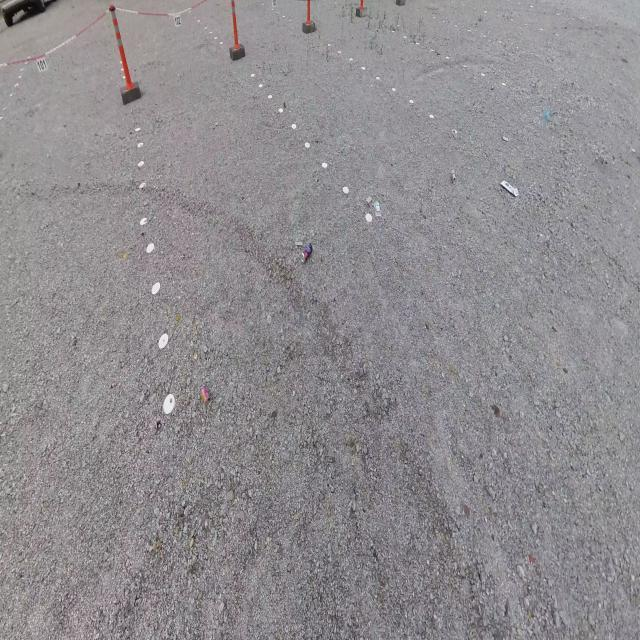rubbish: (500, 179, 519, 197), (200, 384, 211, 408), (302, 246, 313, 263), (374, 199, 382, 218), (541, 109, 551, 123), (363, 194, 373, 205), (451, 168, 457, 186), (295, 241, 303, 245)
